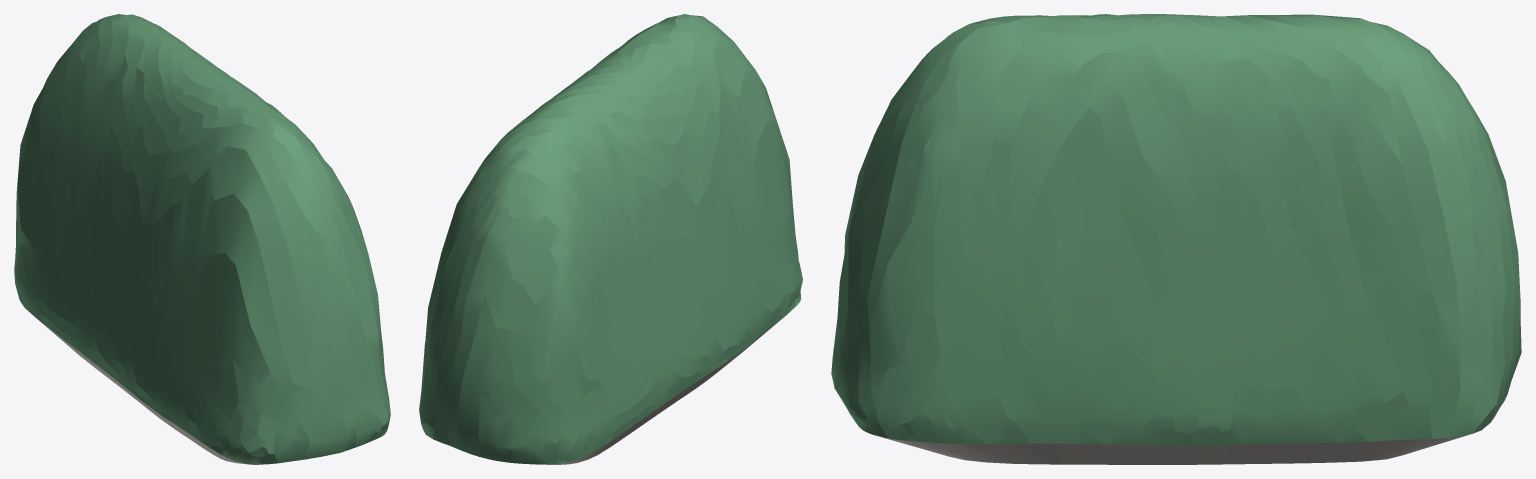
File: island_asian_B.fbx
3 renders of one model, left to right at view 1: azimuth 30°, elevation 25°; view 2: azimuth 150°, elevation 25°; view 3: azimuth 270°, elevation 25°, orthographic. The views are drawn at different scales.
Visible parts, largest first — view 1: island_asian_B; view 2: island_asian_B; view 3: island_asian_B.
Part boxes in pixels (bbox=[...]): island_asian_B: bbox=[14, 14, 390, 464]; island_asian_B: bbox=[419, 14, 802, 464]; island_asian_B: bbox=[831, 14, 1521, 464].
Bounding box in the file's own units: 1310 × 2250 × 3479.
